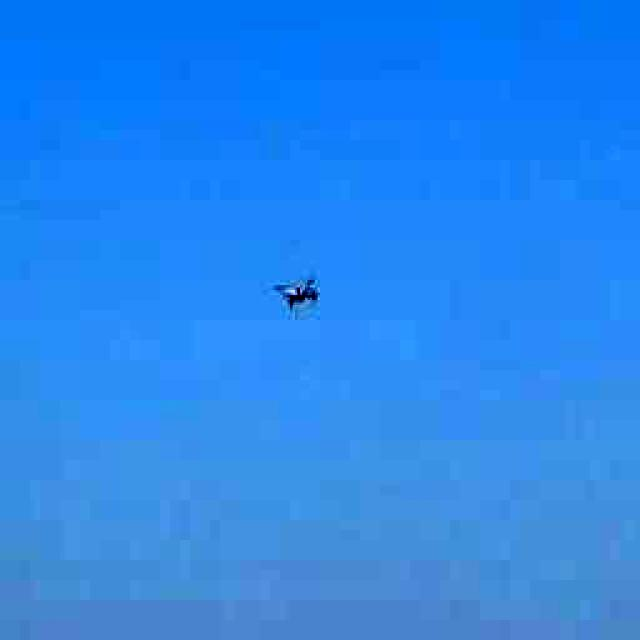bird: (256, 250, 351, 348)
